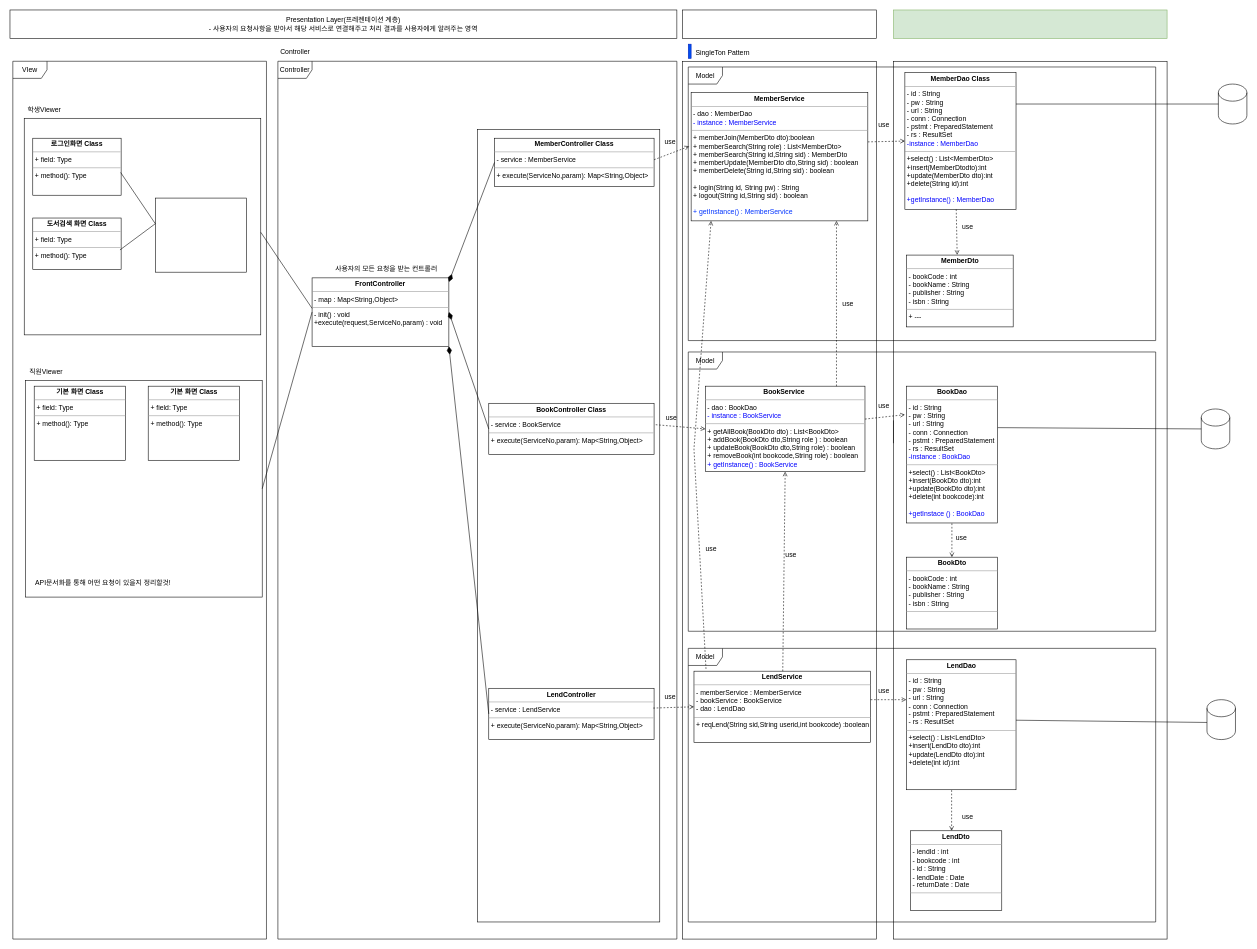
This 1257x949 diagram has some shape labels left out. Here are the shapes that lost their labels. From the top down, the centre of each, then its label:
point (779, 23): Business Layer
point (1030, 23): Persistance Layer
point (1232, 104): 멤버 테이블
point (201, 235): 메인 화면 Class + field: Type + method(): Type
point (1215, 428): 도서 테이블
point (1220, 719): 대여 테이블
